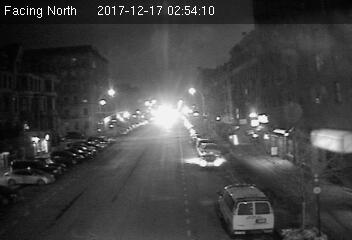car: (197, 153, 224, 171)
police: (217, 181, 276, 234)
